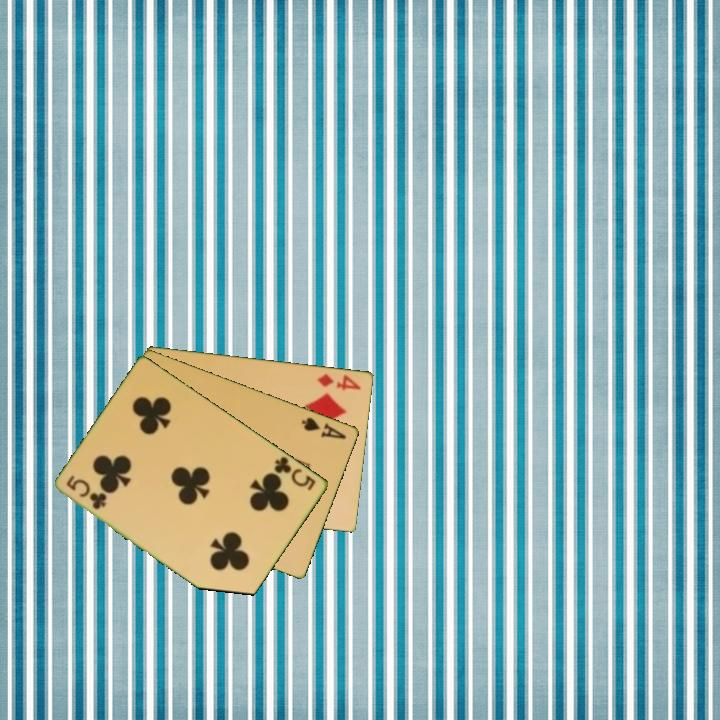4d: (314, 370, 364, 393)
5c: (271, 453, 319, 494), (63, 471, 110, 512)
As: (298, 413, 350, 442)
